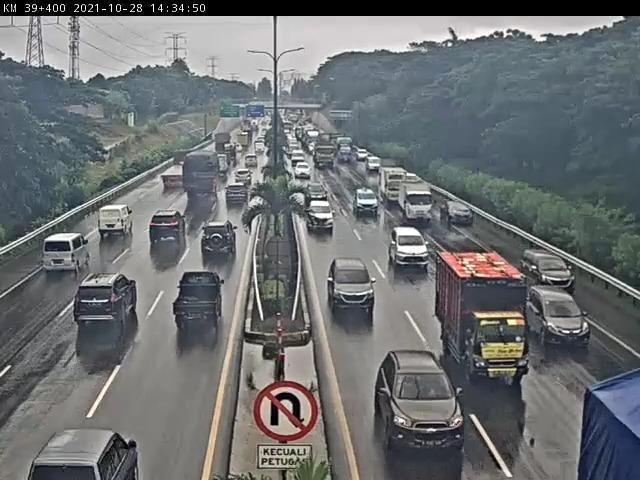car: (366, 347, 472, 465), (31, 419, 168, 480), (169, 272, 237, 335), (75, 269, 140, 334), (530, 292, 593, 356), (323, 256, 388, 318), (522, 243, 585, 293), (390, 228, 437, 280), (44, 232, 95, 279), (199, 218, 244, 262), (92, 203, 138, 240), (150, 211, 189, 251), (303, 201, 344, 238), (352, 185, 388, 223), (442, 199, 481, 232), (227, 179, 256, 219), (291, 161, 316, 185), (306, 185, 330, 206), (234, 169, 256, 190), (245, 154, 266, 173), (366, 155, 385, 175), (357, 145, 370, 163)
truck: (436, 253, 535, 389), (576, 364, 640, 480), (577, 364, 640, 480), (184, 153, 231, 213), (399, 177, 437, 230), (159, 149, 188, 191), (382, 170, 408, 204), (315, 137, 337, 170)
